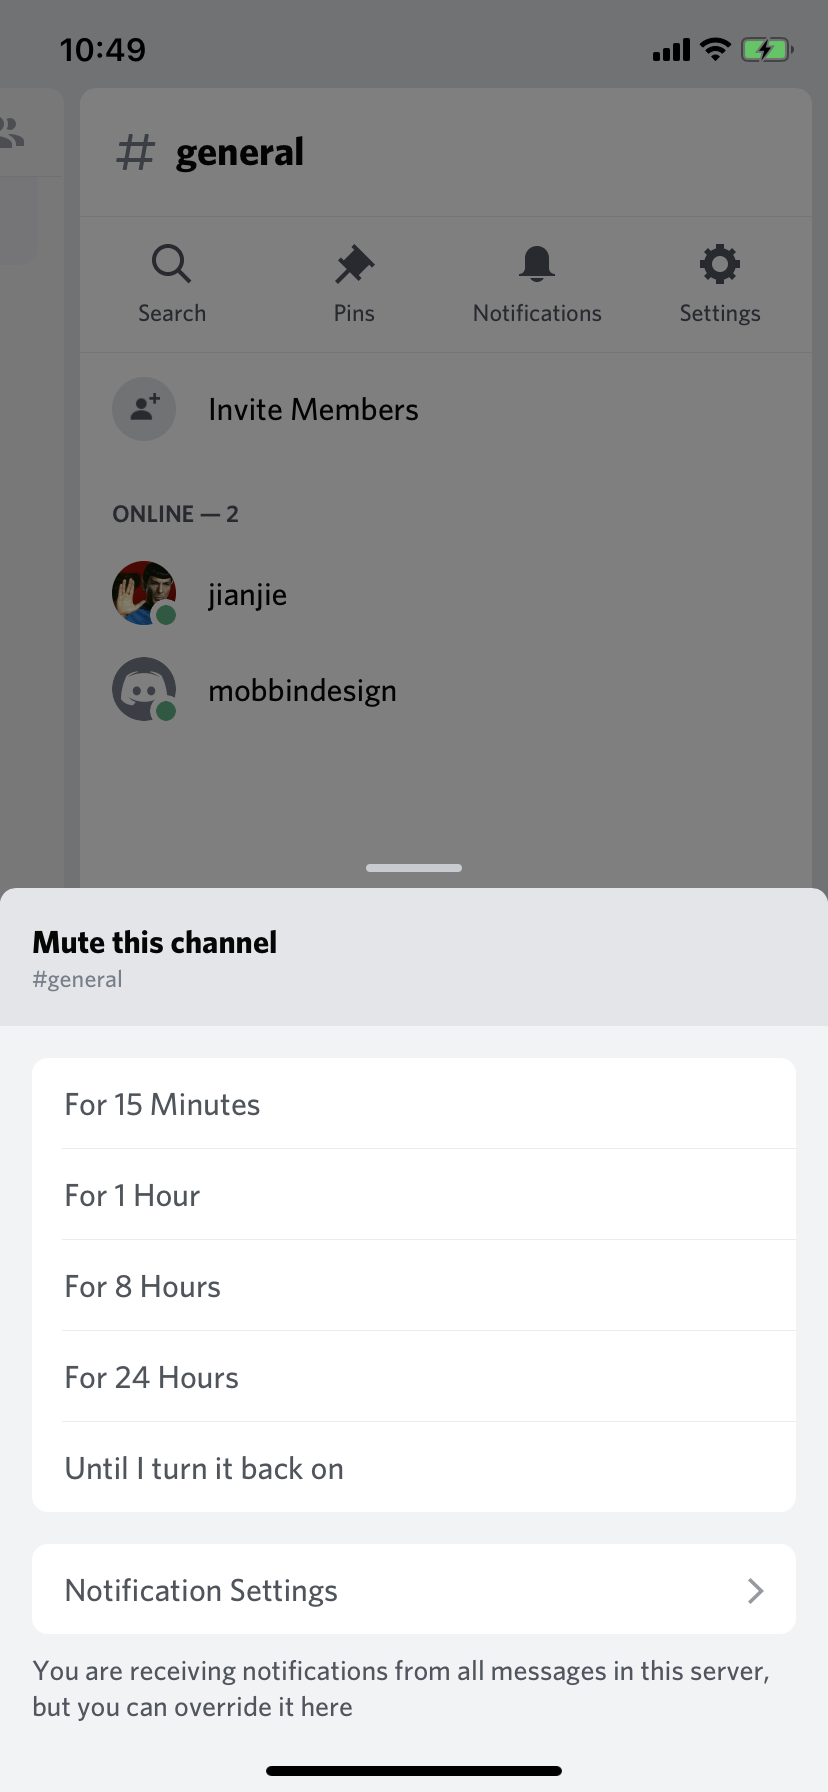Buttons: (456, 223, 612, 338), (650, 223, 783, 341), (288, 229, 411, 334), (116, 230, 228, 333)
